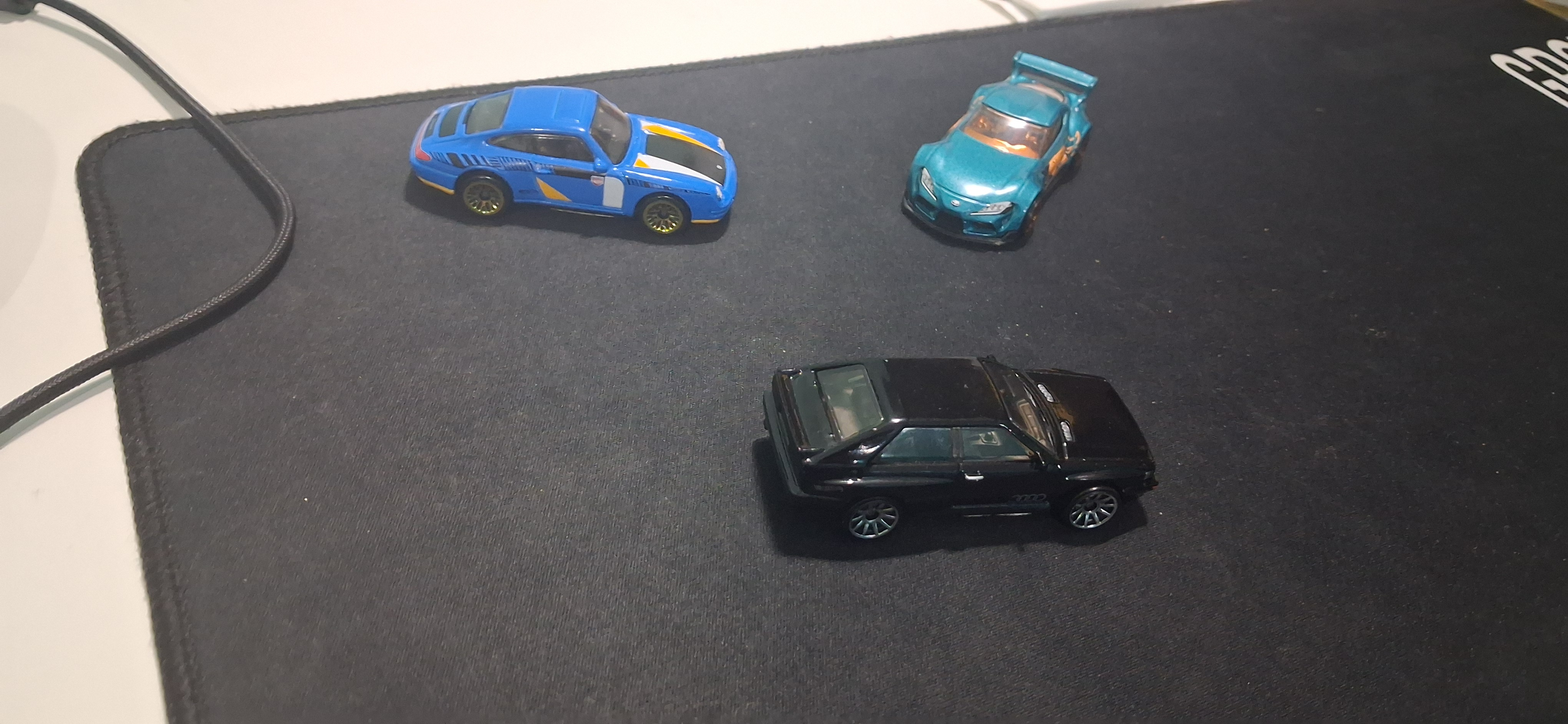Audi_Quattro: (740, 331, 1199, 552)
Porsche_Carrera: (374, 61, 778, 253)
Toyota_GR_Supra: (851, 32, 1140, 273)
